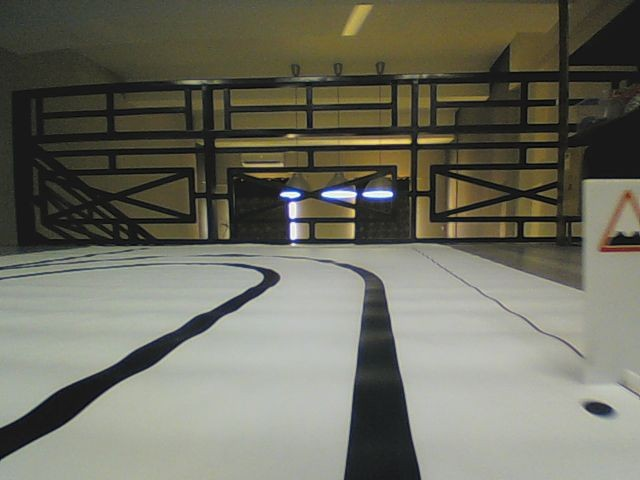Nerov: (597, 191, 640, 256)
